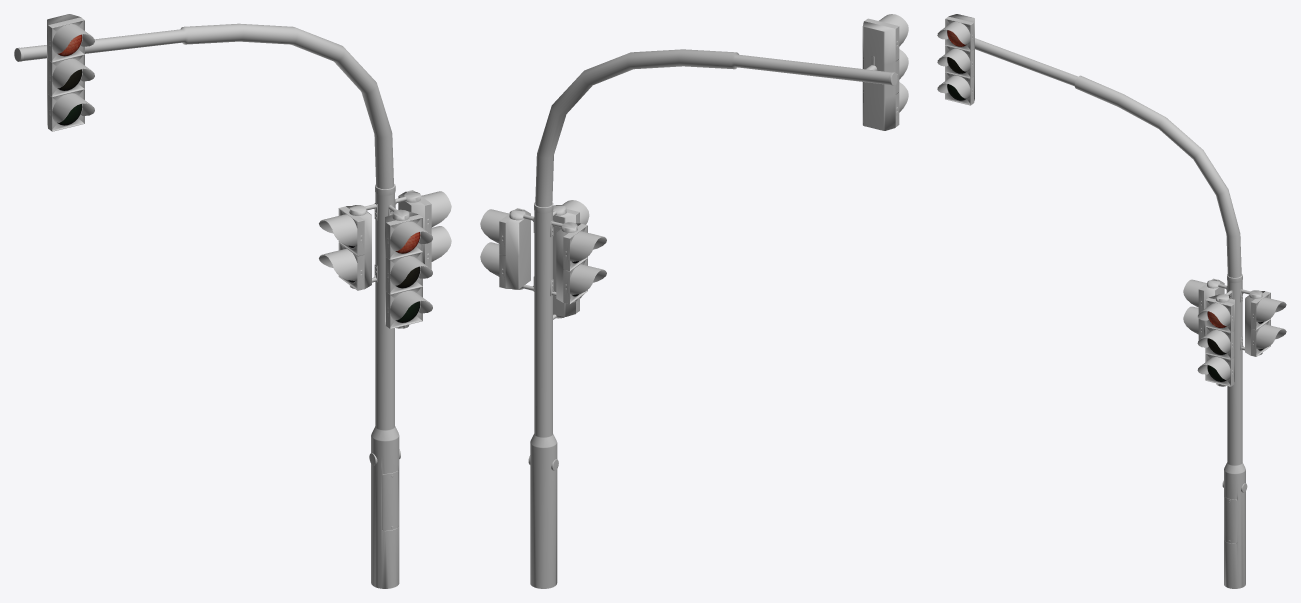
File: ampeln_de_4k.fbx
3 renders of one model, left to right at view 1: azimuth 30°, elevation 25°; view 2: azimuth 150°, elevation 25°; view 3: azimuth 330°, elevation 25°, orthographic. The views are drawn at different scales.
Visible parts, largest first — view 1: ampel_doppel, ampel_einfach; view 2: ampel_doppel, ampel_einfach; view 3: ampel_einfach, ampel_doppel.
Boxes of the visible parts, x1,y1,x2,y2 form: ampel_doppel: [14, 14, 400, 458]; ampel_einfach: [369, 184, 451, 588]; ampel_doppel: [528, 14, 908, 464]; ampel_einfach: [480, 200, 589, 588]; ampel_einfach: [1197, 274, 1286, 588]; ampel_doppel: [937, 14, 1247, 492].
Bounding box in the file's own units: 406 × 596 × 71.59.
